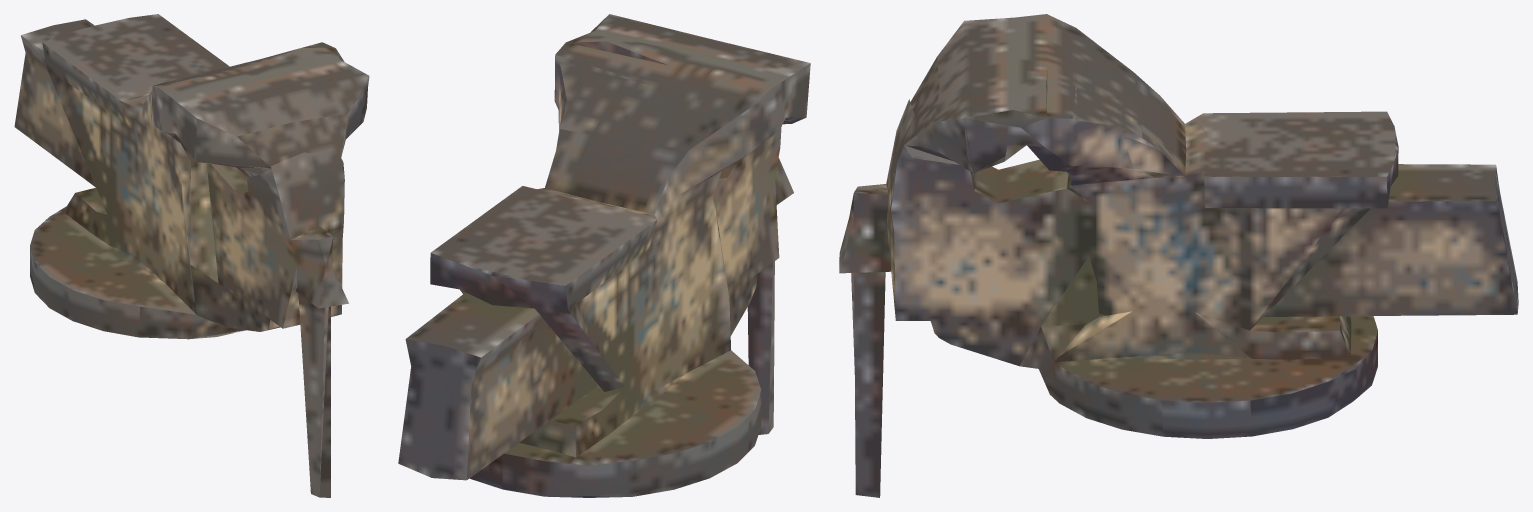
File: bench_vice_01.glb
3 views of the same model, side by side, from view 1: azimuth 30°, elevation 25°; view 2: azimuth 150°, elevation 25°; view 3: azimuth 270°, elevation 25° (orthographic). The views are drawn at different scales.
Parts seen in each view (by area): view 1: mesh; view 2: mesh; view 3: mesh.
Part boxes in pixels (left/top/right/bottom): mesh: left=14, top=14, right=369, bottom=497; mesh: left=398, top=14, right=810, bottom=497; mesh: left=839, top=14, right=1518, bottom=497.
Bounding box in the file's own units: 0.1928 × 0.2717 × 0.3812.
Materials: 1 (1 with a texture image).
